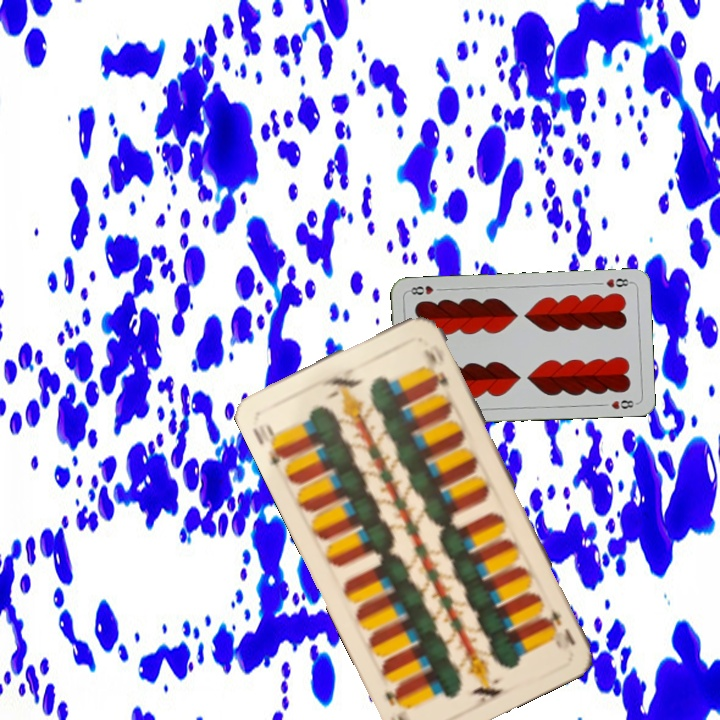E10: (248, 420, 290, 468), (545, 603, 578, 648)
H8: (602, 274, 634, 290)
